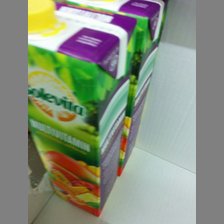juice: (27, 1, 139, 218)
